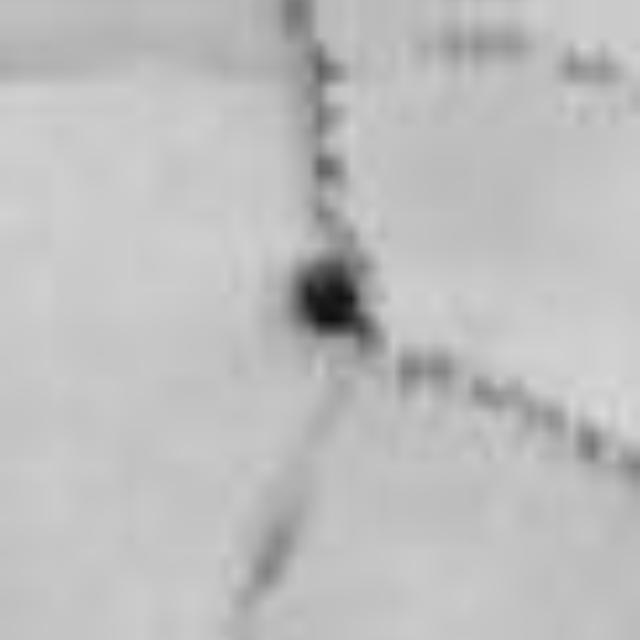good_void: (295, 258, 370, 341)
